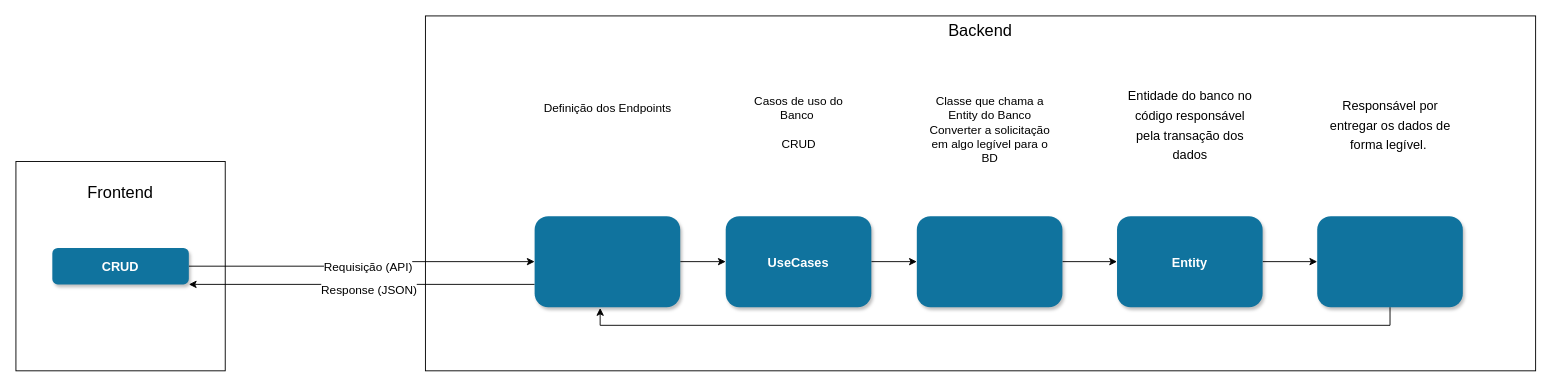
Some shapes in this 1552 by 387 pixel diagram are drawn without their labels. Each missing label, with the centre of its shape:
"Controllers" goes at (608,262).
"External" goes at (990,262).
"viewmodel" goes at (1390,262).
